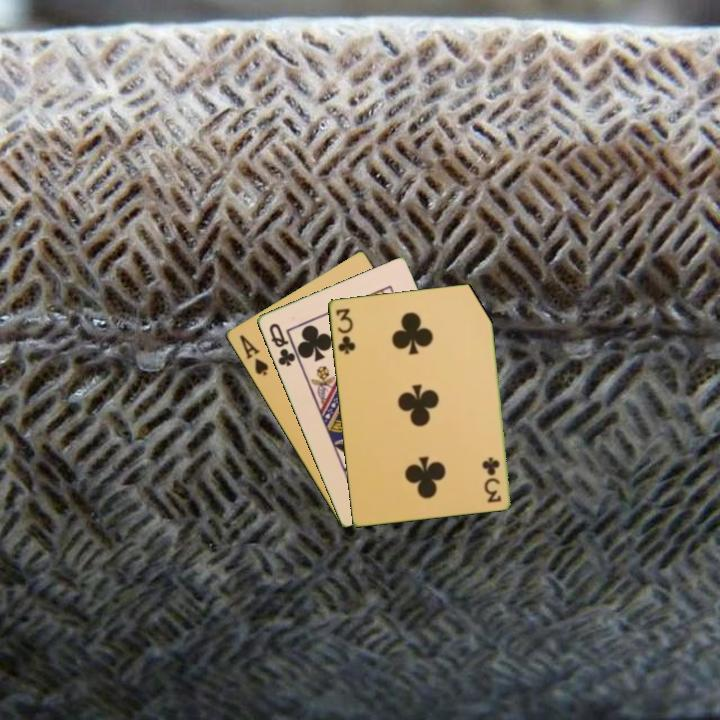3c: (332, 305, 358, 357), (481, 453, 504, 505)
As: (236, 331, 271, 379)
Qc: (265, 319, 298, 369)
